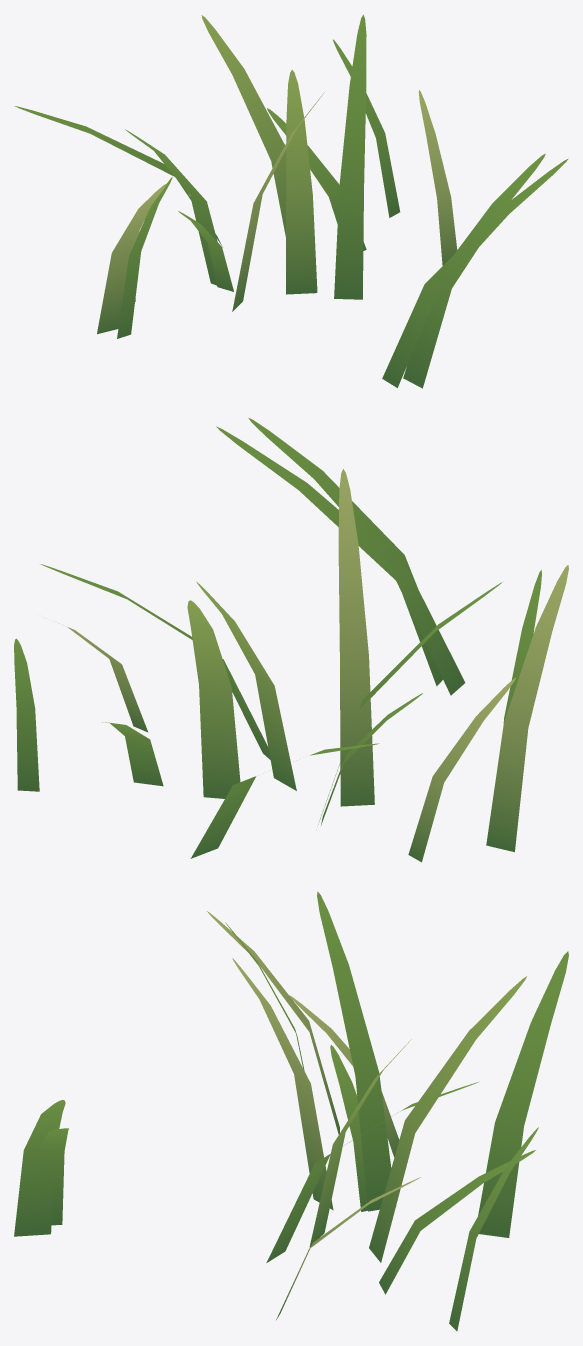
Rendered from grass_short.glb.
The picture shows the model from 3 angles, top to bottom: view 1: azimuth 30°, elevation 25°; view 2: azimuth 150°, elevation 25°; view 3: azimuth 270°, elevation 25°; orthographic projection. The views are drawn at different scales.
Parts seen in each view (by area): view 1: Grass; view 2: Grass; view 3: Grass.
Part boxes in pixels (x1,y1,x2,y2): Grass: (14, 14, 568, 388); Grass: (14, 418, 568, 862); Grass: (14, 891, 568, 1331).
Size of the model in its own units: 0.432 by 0.2685 by 0.4889.
